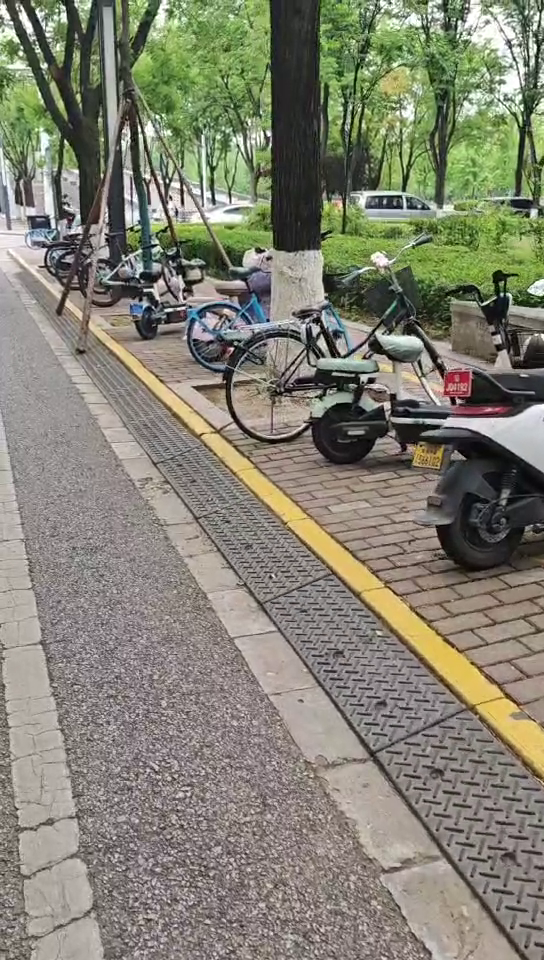others: (233, 227, 452, 438), (314, 270, 524, 455), (432, 327, 544, 577), (119, 238, 191, 333)
shared_bike_haluo: (180, 244, 354, 374)
